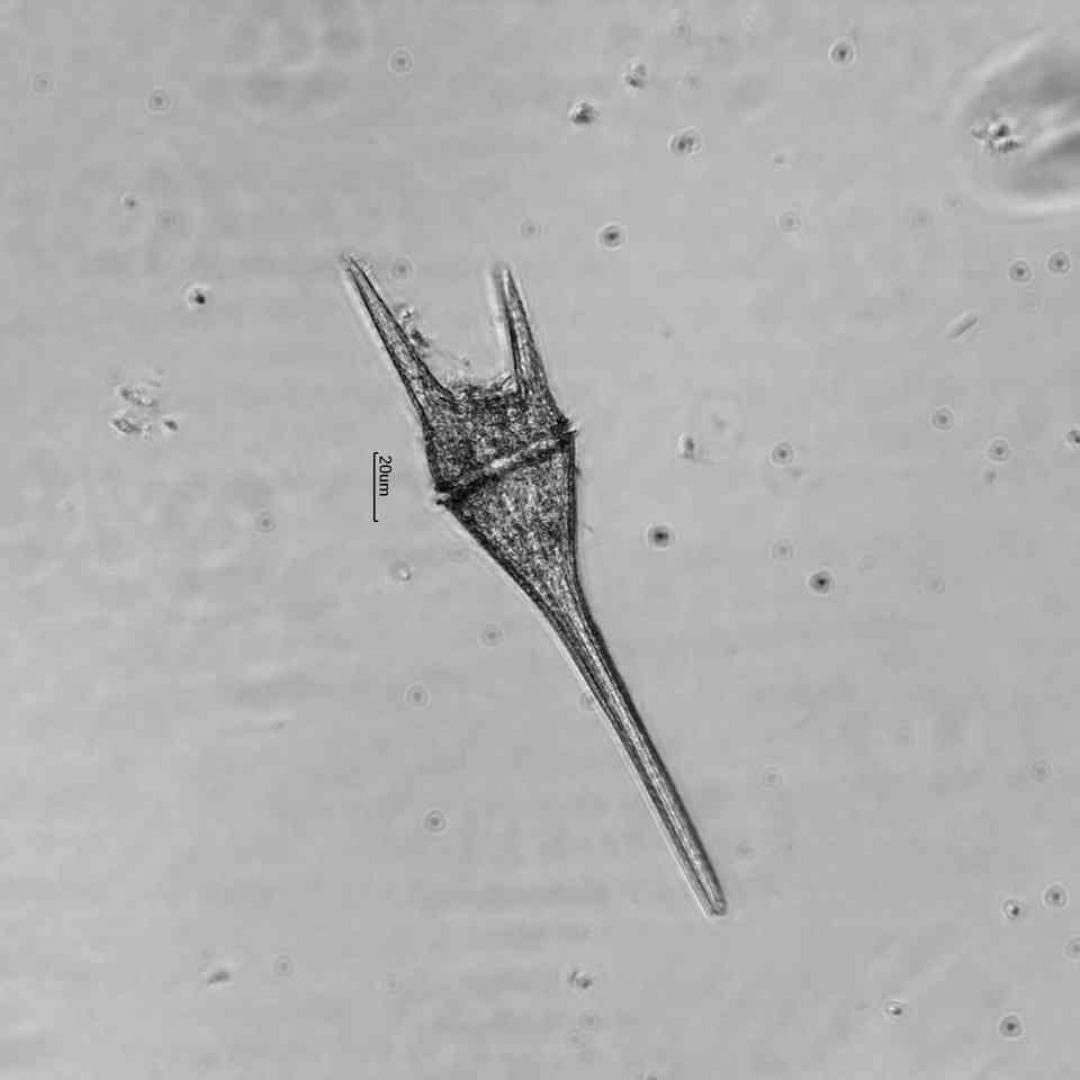ceratium_furca: (349, 256, 729, 920)
